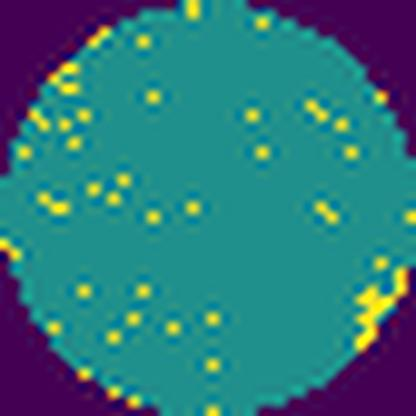Edge-Loc: (347, 258, 415, 360)
